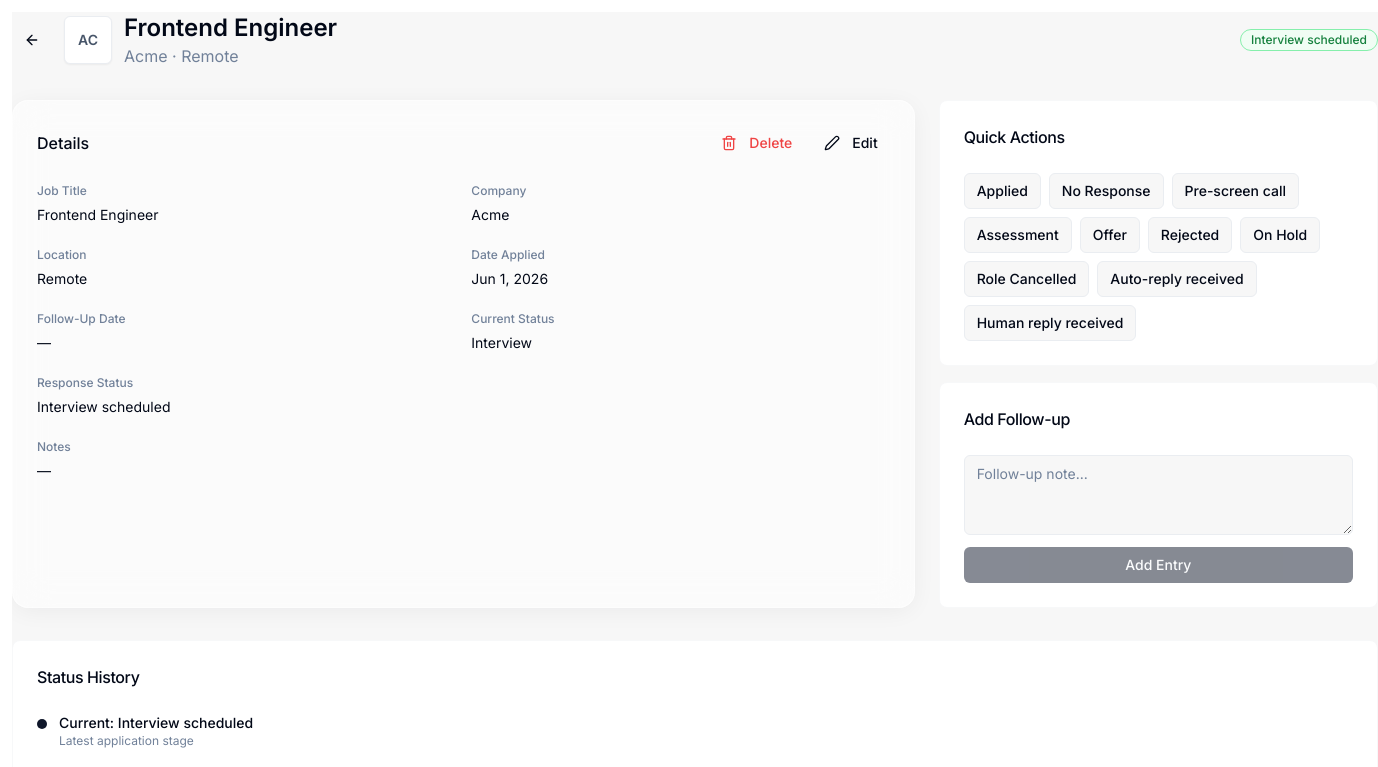
Test: ApplicationDetail › keeps an imported custom response status selectable while editing
This screenshot has width=1378, height=767.
Click the button "Edit". click: (851, 143)
box: [812,125,890,161]
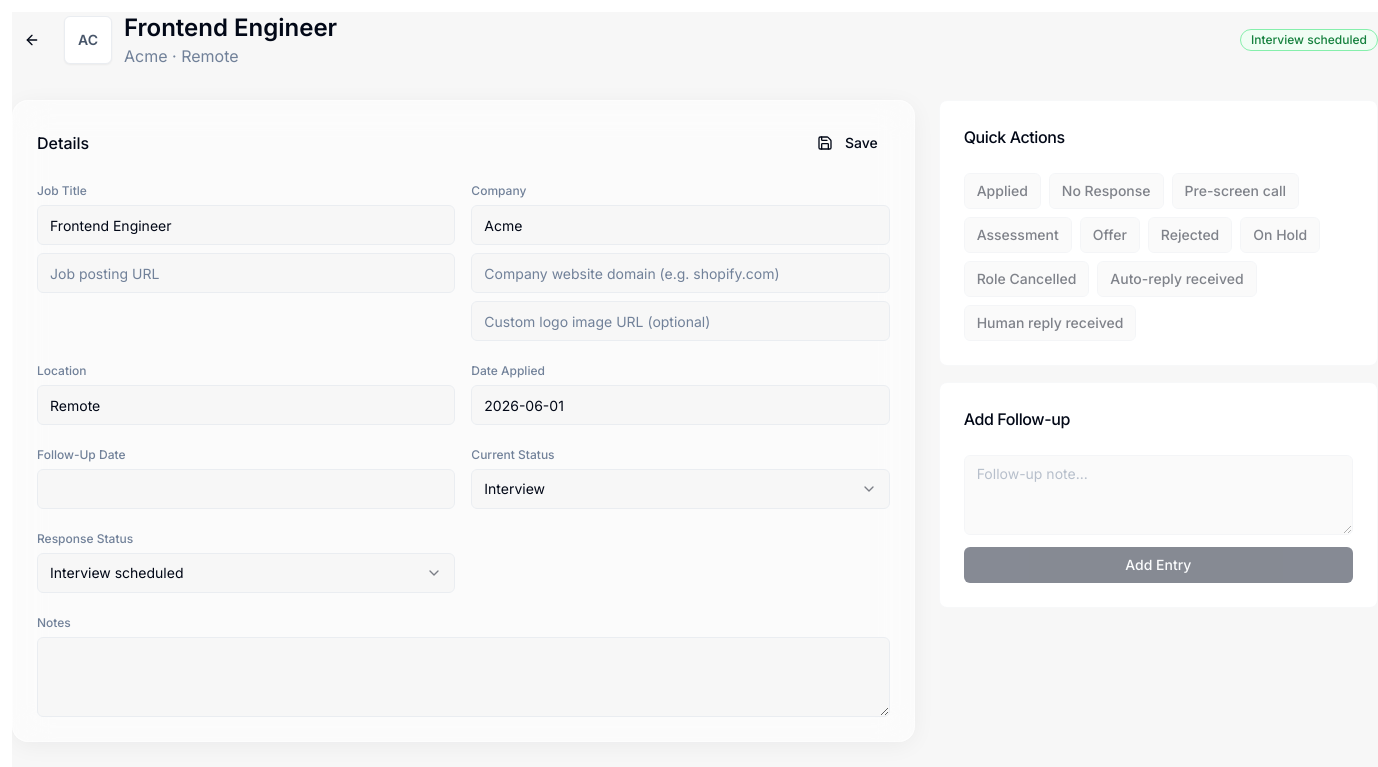
Click the dropdown labelled "Interview scheduled". click: (117, 572)
box: [37,553,455,593]
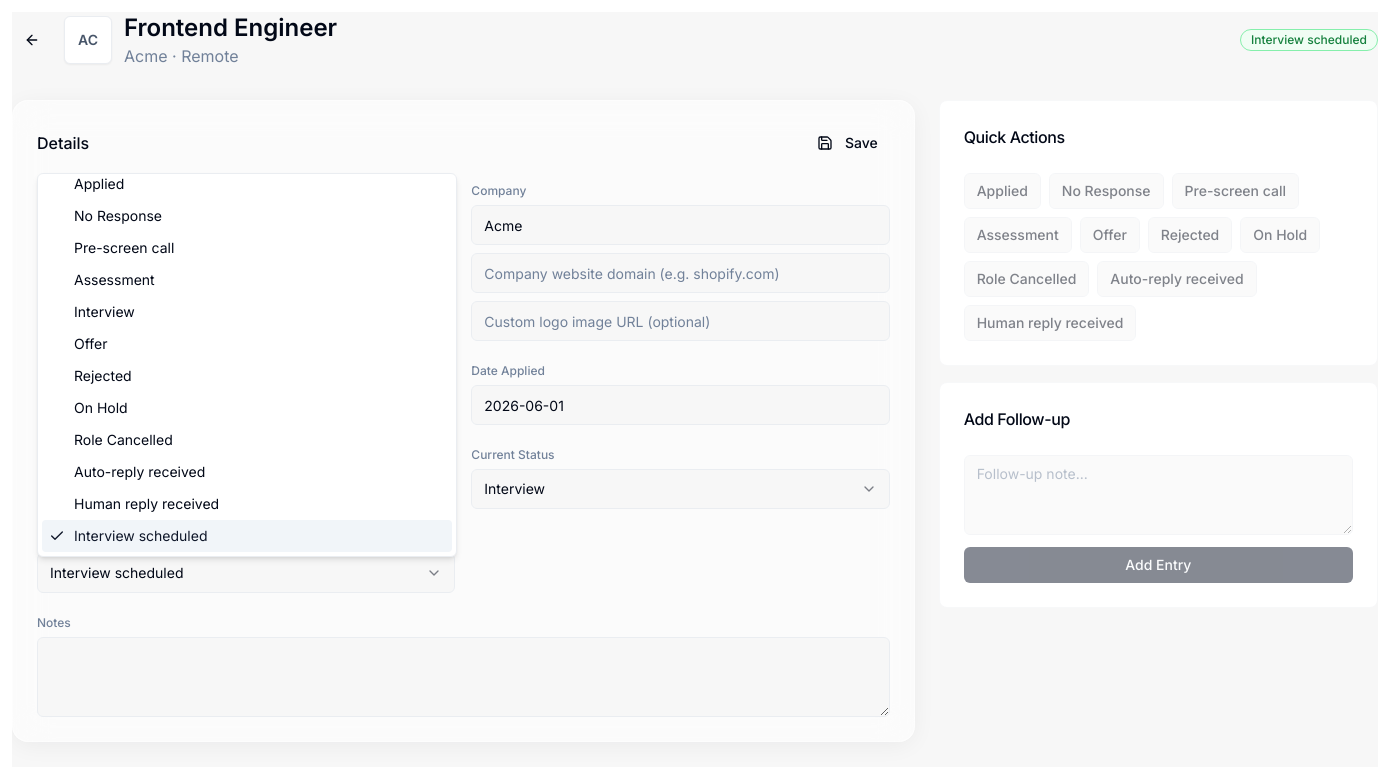
Now the option "Interview scheduled" is shown, box [42,520,452,552]
